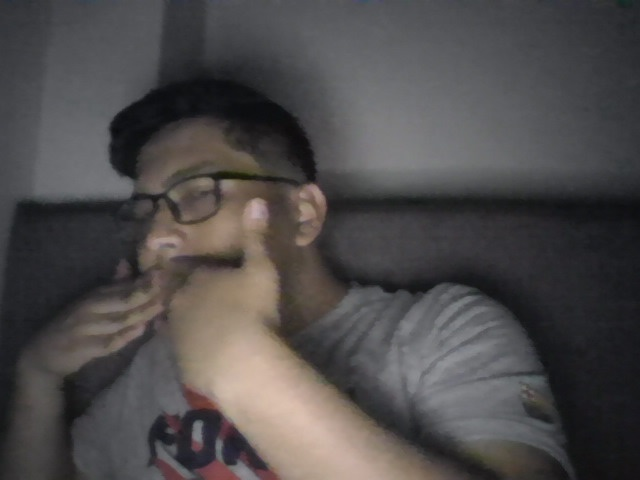Thanks: (5, 194, 306, 420)
